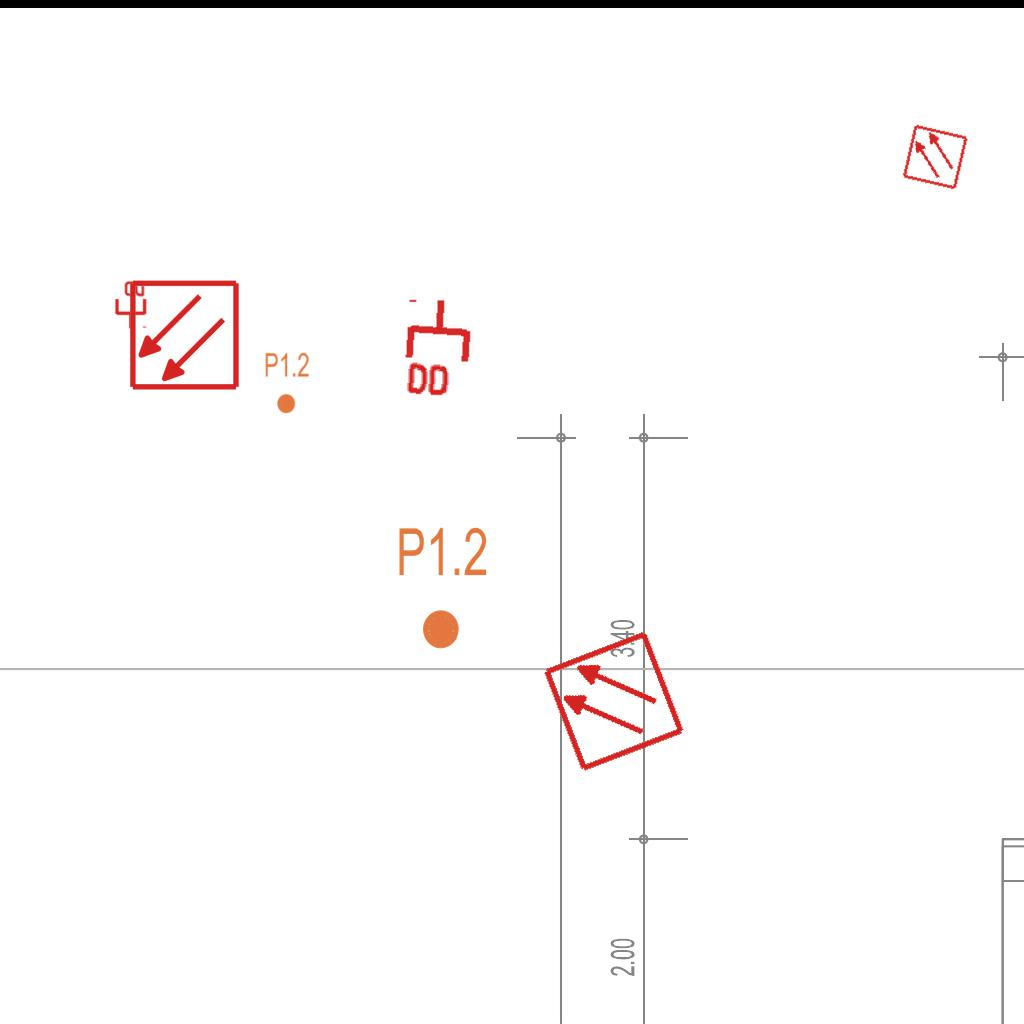Datenanschluss_zweifach: (401, 294, 478, 403), (113, 279, 147, 330)
Downlight_LED_Einbauleuchten_Flur: (396, 524, 489, 652), (264, 351, 310, 415)
RMO_Rauchmelder_optischer: (540, 628, 687, 775), (128, 279, 241, 392), (901, 123, 969, 191)
